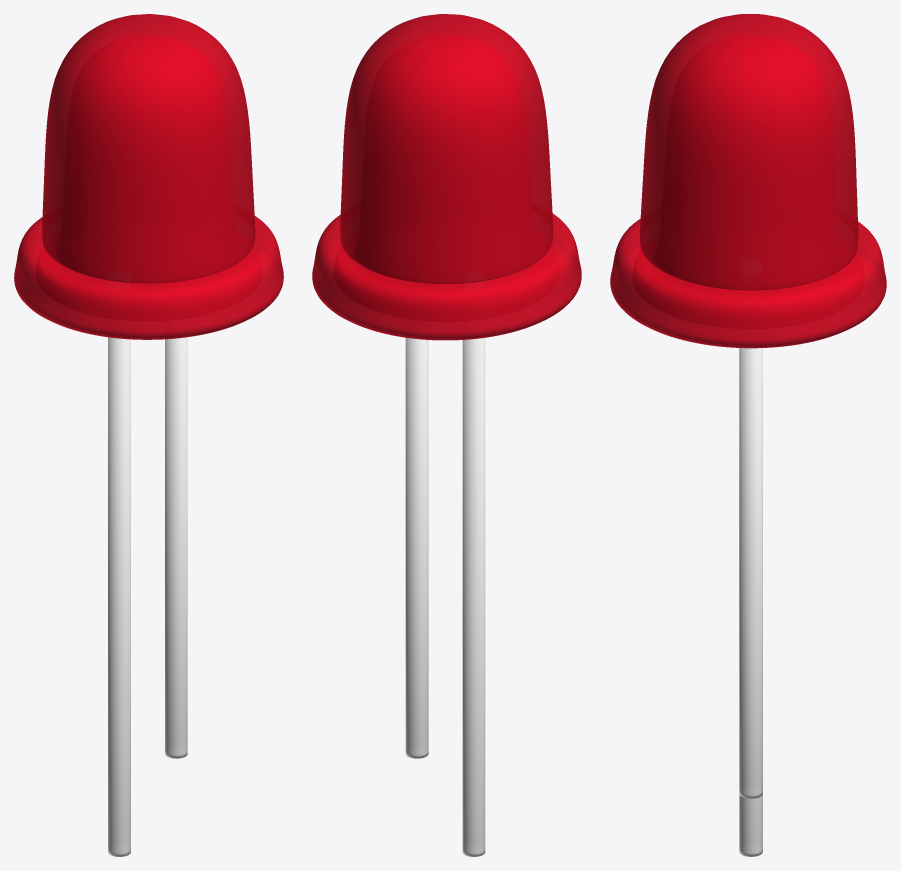
The model's file is LED2.fbx.
The picture shows the model from 3 angles, left to right: view 1: azimuth 30°, elevation 25°; view 2: azimuth 150°, elevation 25°; view 3: azimuth 270°, elevation 25°; orthographic projection. The views are drawn at different scales.
Parts seen in each view (by area): view 1: topLED, anode, cathode; view 2: topLED, anode, cathode; view 3: topLED, cathode, anode.
Boxes of the visible parts, box(x1,y1,x2,y2) form: topLED: box(14, 14, 283, 339); anode: box(108, 337, 130, 856); cathode: box(165, 337, 187, 758); topLED: box(312, 14, 581, 340); anode: box(462, 338, 485, 856); cathode: box(405, 337, 428, 758); topLED: box(610, 14, 886, 348); cathode: box(739, 348, 762, 798); anode: box(739, 794, 762, 856).
Bounding box in the file's own units: 417 × 1396 × 417.
